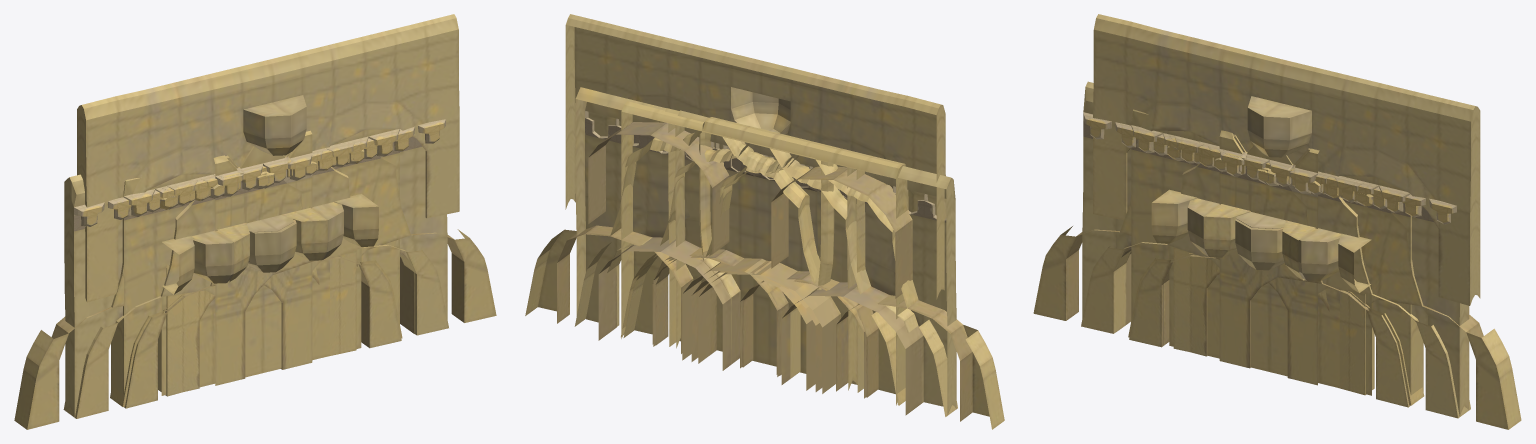
The model's file is Tile.fbx.
3 renders of one model, left to right at view 1: azimuth 30°, elevation 25°; view 2: azimuth 150°, elevation 25°; view 3: azimuth 330°, elevation 25°, orthographic.
Parts seen in each view (by area): view 1: Muro_Duplo_Arco2, CantoL_Duplo_Arco, Muro_Duplo_Arco_Quebrado, Muro_Duplo_Arco, CantoL_Unico_Arco2, CantoR_Duplo_Arco.001, Muro_Unico_ArcoM, CantoR_Unico_Arco2, Muro_Unico_ArcoL, CantoR_Unico_Arco, Muro_Unico_ArcoR, CantoL_Unico_Arco (+1 smaller); view 2: Muro_Duplo_Arco2, Muro_Duplo_Arco, CantoL_Duplo_Arco, CantoR_Duplo_Arco.001, Muro_Unico2, Muro_Unico_ArcoR, Muro_Duplo_Arco_Quebrado, CantoR_Unico_Arco, Muro_Unico_ArcoL, Muro_Unico_ArcoM, Muro_Unico, CantoL_Unico_Arco2 (+2 smaller); view 3: Muro_Duplo_Arco2, CantoL_Duplo_Arco, Muro_Duplo_Arco_Quebrado, Muro_Duplo_Arco, CantoL_Unico_Arco2, CantoR_Duplo_Arco.001, Muro_Unico_ArcoM, CantoR_Unico_Arco2, CantoL_Unico_Arco, Muro_Unico_ArcoR, Muro_Unico_ArcoL, CantoR_Unico_Arco (+1 smaller).
Part boxes in pixels (bbox=[...]): Muro_Duplo_Arco2: bbox=[77, 14, 459, 302]; CantoL_Duplo_Arco: bbox=[111, 149, 496, 394]; Muro_Duplo_Arco_Quebrado: bbox=[63, 146, 448, 418]; Muro_Duplo_Arco: bbox=[64, 119, 447, 417]; CantoL_Unico_Arco2: bbox=[213, 155, 401, 385]; CantoR_Duplo_Arco.001: bbox=[14, 129, 399, 429]; Muro_Unico_ArcoM: bbox=[158, 141, 356, 396]; CantoR_Unico_Arco2: bbox=[124, 130, 312, 408]; Muro_Unico_ArcoL: bbox=[189, 153, 378, 348]; CantoR_Unico_Arco: bbox=[110, 131, 327, 406]; Muro_Unico_ArcoR: bbox=[161, 143, 345, 395]; CantoL_Unico_Arco: bbox=[217, 155, 402, 338]; Muro_Duplo_Arco2: bbox=[565, 14, 946, 299]; Muro_Duplo_Arco: bbox=[575, 87, 956, 415]; CantoL_Duplo_Arco: bbox=[525, 117, 908, 405]; CantoR_Duplo_Arco.001: bbox=[621, 101, 1004, 429]; Muro_Unico2: bbox=[723, 140, 818, 373]; Muro_Unico_ArcoR: bbox=[675, 110, 864, 393]; Muro_Duplo_Arco_Quebrado: bbox=[574, 143, 957, 416]; CantoR_Unico_Arco: bbox=[720, 119, 905, 405]; Muro_Unico_ArcoL: bbox=[665, 108, 857, 390]; Muro_Unico_ArcoM: bbox=[668, 123, 865, 392]; Muro_Unico: bbox=[699, 132, 834, 378]; CantoL_Unico_Arco2: bbox=[623, 155, 798, 375]; Muro_Duplo_Arco2: bbox=[1093, 14, 1480, 305]; CantoL_Duplo_Arco: bbox=[1131, 109, 1521, 429]; Muro_Duplo_Arco_Quebrado: bbox=[1081, 145, 1470, 418]; Muro_Duplo_Arco: bbox=[1082, 81, 1469, 416]; CantoL_Unico_Arco2: bbox=[1219, 130, 1410, 407]; CantoR_Duplo_Arco.001: bbox=[1033, 141, 1423, 395]; Muro_Unico_ArcoM: bbox=[1173, 135, 1374, 395]; CantoR_Unico_Arco2: bbox=[1129, 149, 1319, 385]; CantoL_Unico_Arco: bbox=[1204, 134, 1424, 405]; Muro_Unico_ArcoR: bbox=[1151, 134, 1354, 346]; Muro_Unico_ArcoL: bbox=[1194, 152, 1371, 395]; CantoR_Unico_Arco: bbox=[1128, 148, 1317, 337].
Size of the model in its own units: 2.81 by 1.76 by 0.406.
Materials: 1 (1 with a texture image).
